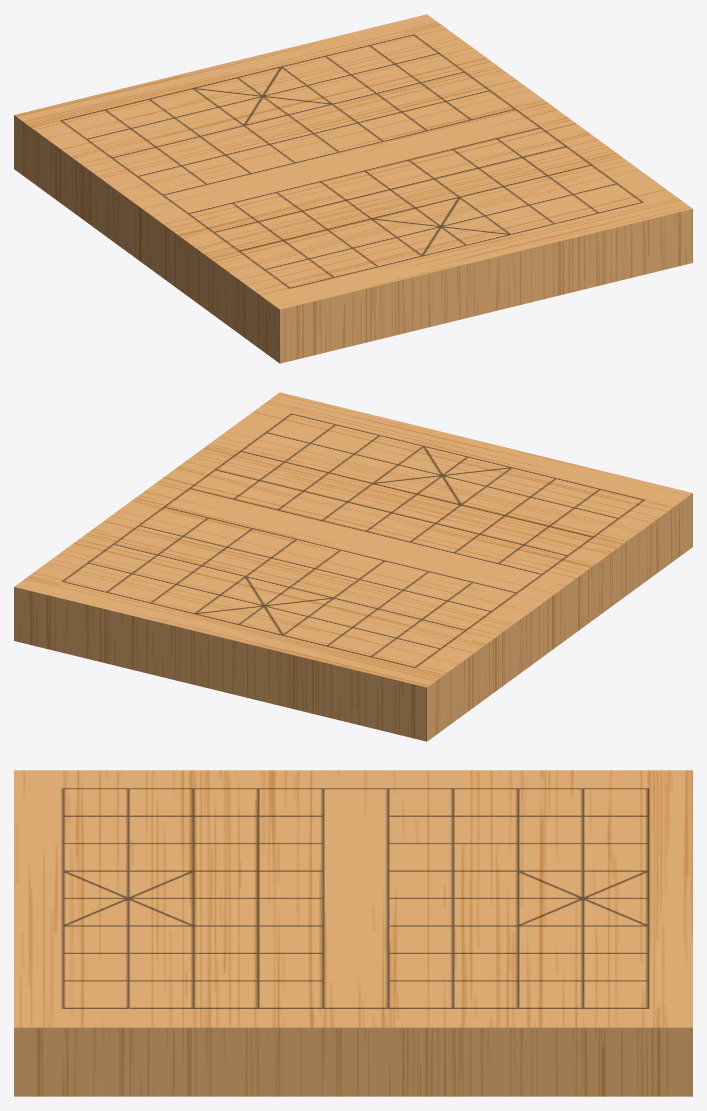
File: xiangqiBoard.fbx
3 renders of one model, top to bottom at view 1: azimuth 30°, elevation 25°; view 2: azimuth 150°, elevation 25°; view 3: azimuth 270°, elevation 25°, orthographic. The views are drawn at different scales.
Visible parts, largest first — view 1: Plane; view 2: Plane; view 3: Plane.
Boxes of the visible parts, x1,y1,x2,y2 form: Plane: (14,14,692,363); Plane: (14,392,692,741); Plane: (14,770,692,1096).
Bounding box in the file's own units: 200 × 25 × 223.
